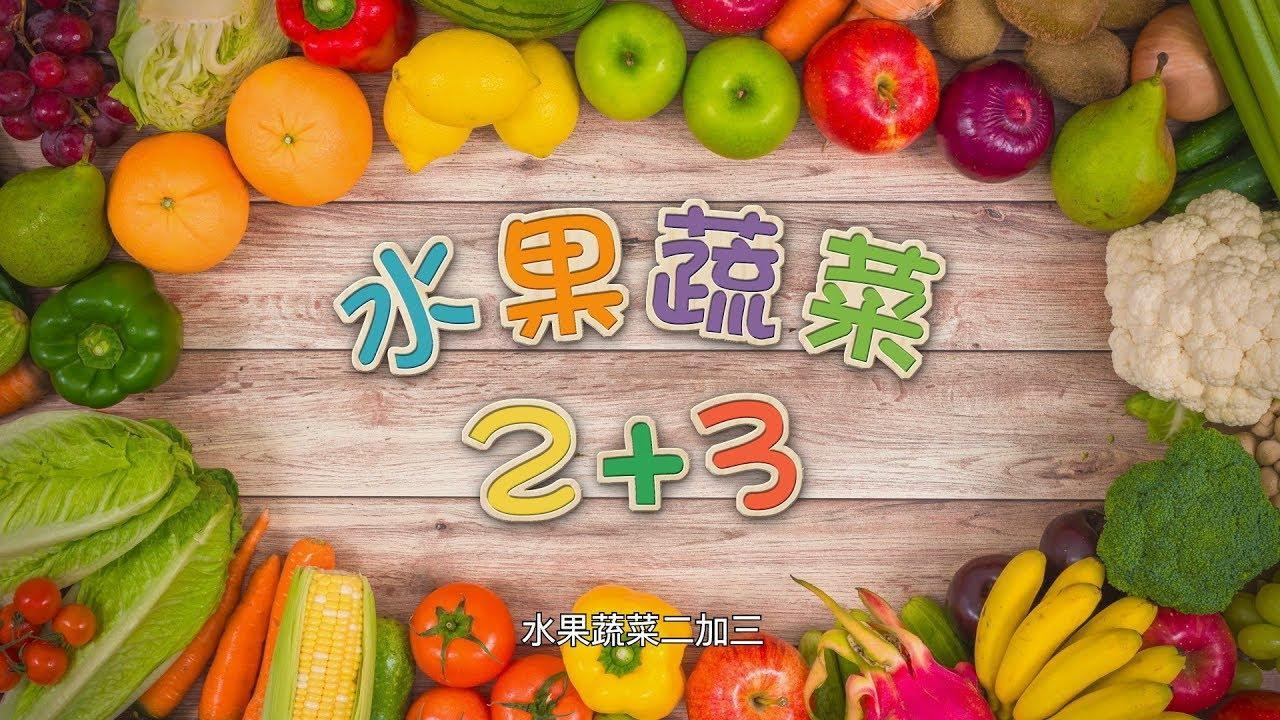apple: (804, 22, 940, 160), (682, 38, 800, 161), (574, 4, 688, 123), (683, 634, 813, 720)
